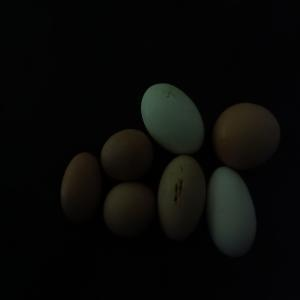Egg: (140, 80, 205, 157), (213, 102, 281, 169), (208, 168, 258, 256), (157, 156, 205, 244), (58, 150, 102, 218), (102, 128, 154, 182), (101, 182, 154, 232)
